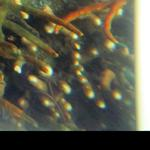alive: (2, 1, 138, 129)
